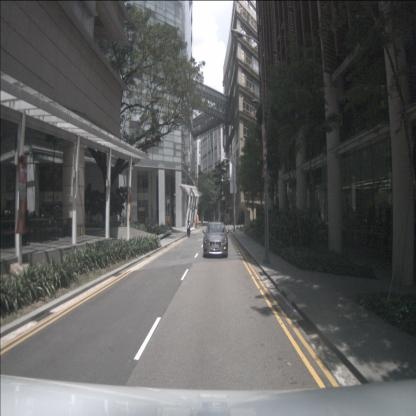vehicle-car: (203, 222, 228, 258)
vehicle-motorcycle: (186, 219, 191, 238)
